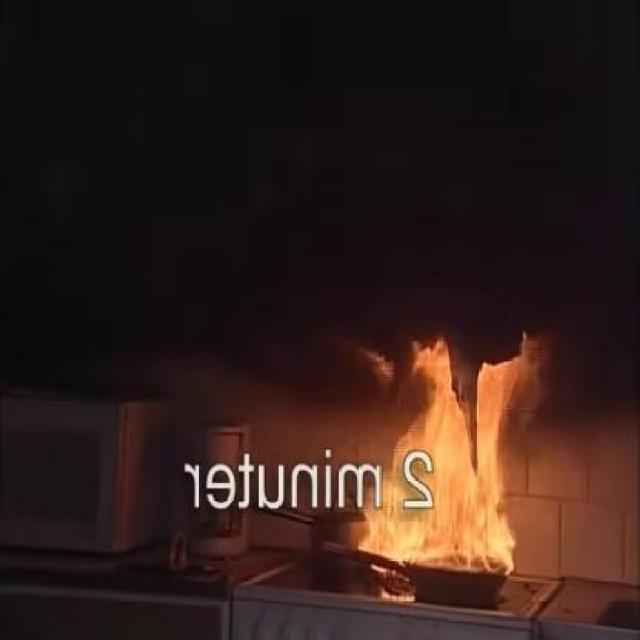fire: (308, 300, 562, 616)
